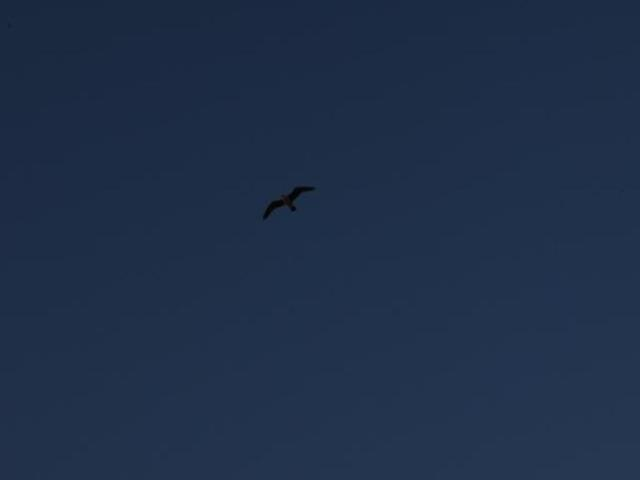Bird: (265, 185, 316, 217)
